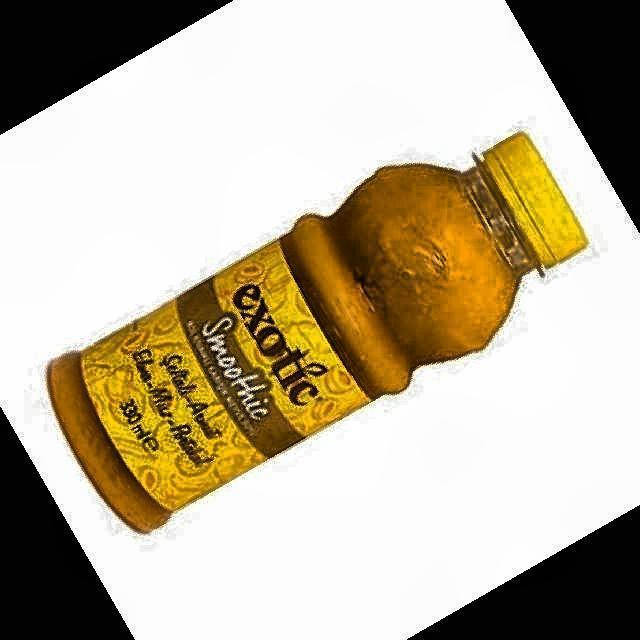plastic: (49, 134, 586, 532)
